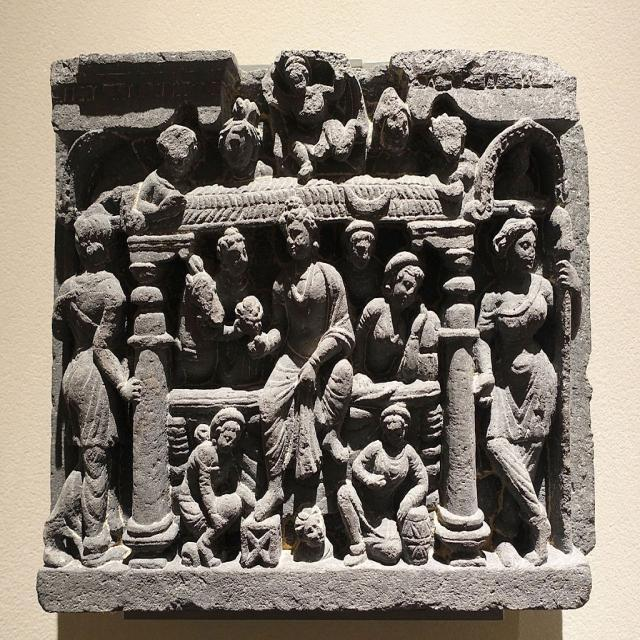buddha-sitting: (250, 206, 355, 521)
